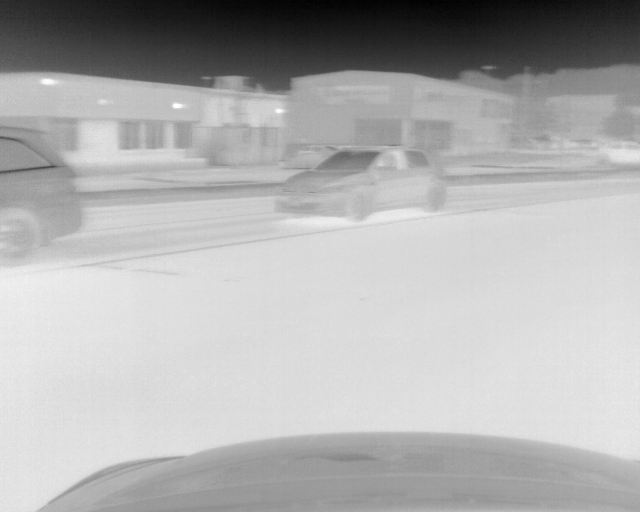car: (272, 145, 447, 223), (1, 124, 84, 269), (599, 139, 640, 167)
